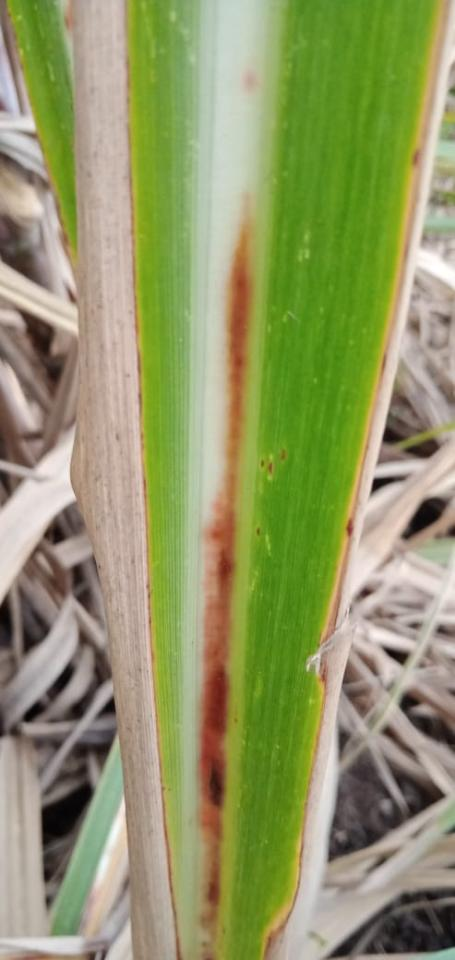RedRot: (195, 195, 254, 944), (243, 65, 259, 95)
Rust: (409, 147, 421, 168), (345, 517, 353, 538), (267, 461, 274, 475), (255, 523, 261, 537), (280, 449, 287, 460), (259, 459, 266, 468)
Yellow: (69, 0, 184, 959), (317, 0, 454, 647), (261, 627, 353, 959)
